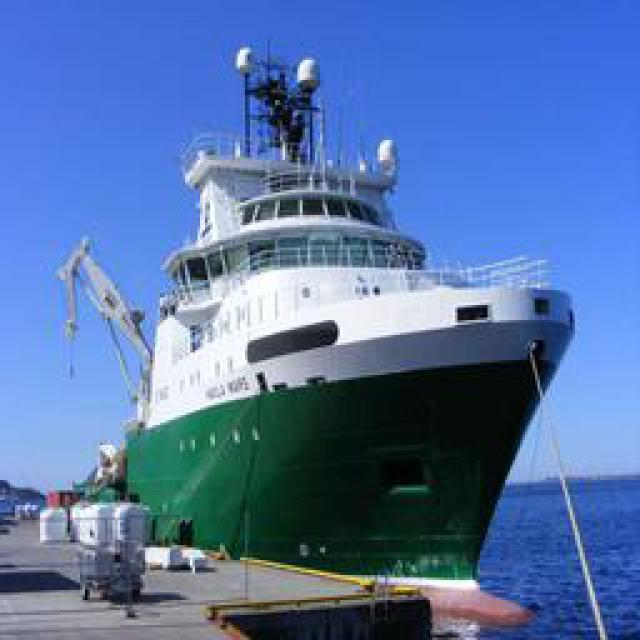Ship: (109, 31, 574, 606)
